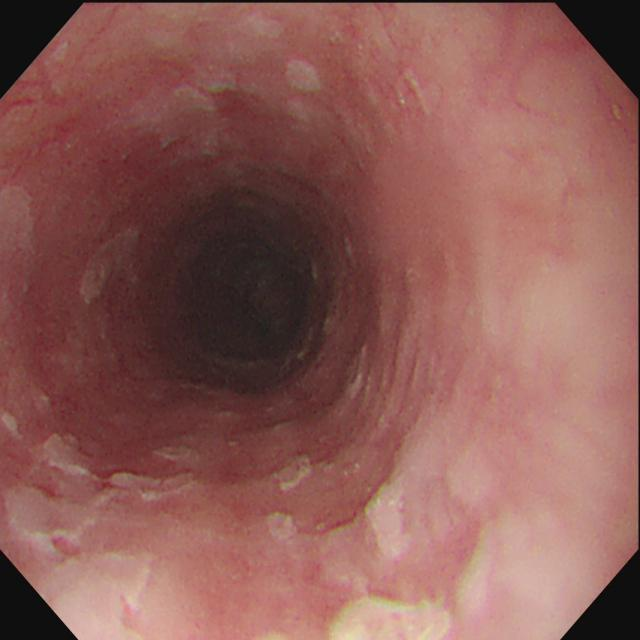E: (179, 219, 316, 374)
J: (8, 432, 202, 640), (151, 13, 325, 152), (270, 420, 405, 585), (83, 227, 145, 306)
